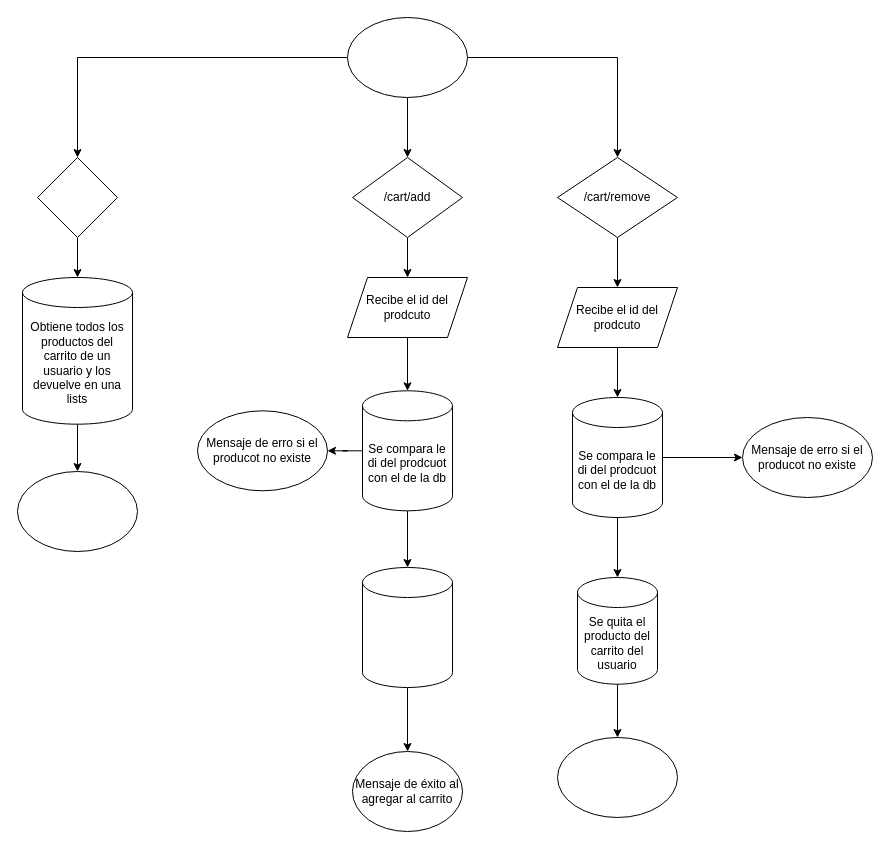
Image size: 890x849. Some labels were removed from this diagram. Each missing label, with the centre of its shape:
"/cart" goes at point 77,197.
"Cart: Usuario necesario" goes at point 407,57.
"Lista de productos y mensaje de éxito" goes at point 77,511.
"Mensaje de exito" goes at point 617,777.
"Se registra el producto en el carrito del usuario" goes at point 407,627.
